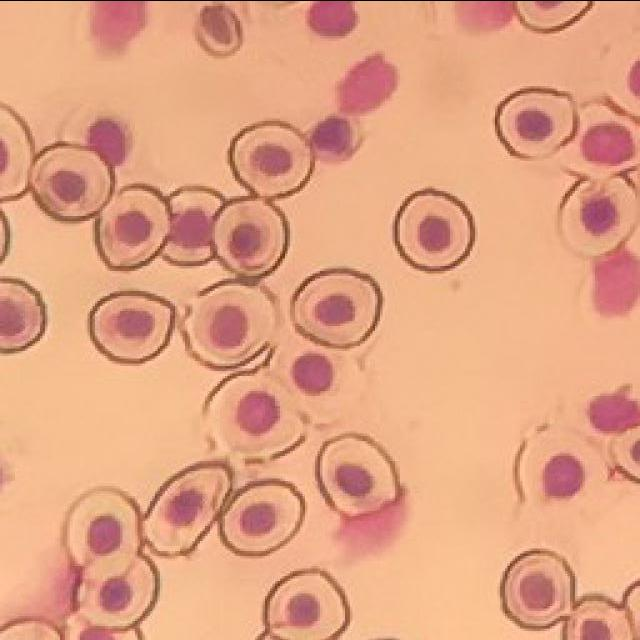RBC: (514, 425, 608, 526), (204, 371, 305, 458), (182, 281, 276, 368), (144, 461, 231, 555), (275, 342, 366, 422), (291, 268, 381, 348), (316, 432, 399, 515), (256, 569, 348, 640), (30, 142, 113, 220), (394, 189, 473, 270), (229, 121, 312, 198), (220, 479, 304, 555), (559, 175, 638, 255), (559, 101, 640, 178), (96, 185, 169, 269), (89, 291, 174, 361), (212, 198, 288, 276), (65, 488, 140, 565), (501, 549, 574, 628), (78, 555, 158, 626), (495, 88, 576, 158), (162, 186, 223, 265), (1, 104, 34, 200), (0, 279, 44, 351), (564, 598, 633, 640), (514, 0, 592, 31), (611, 425, 640, 479)
WBC: (334, 494, 405, 558), (338, 51, 400, 115), (592, 249, 640, 314), (91, 0, 144, 48), (310, 115, 359, 161), (588, 389, 640, 431), (88, 118, 126, 165), (308, 0, 356, 36)
